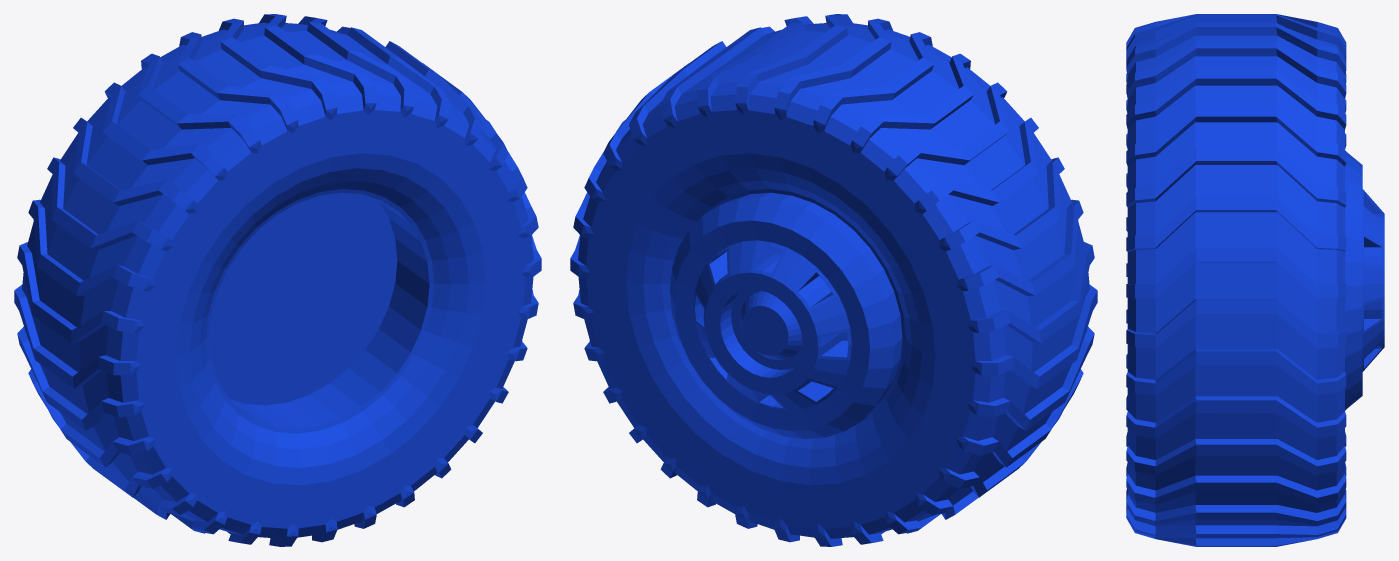
Rendered from PLAYER_UnitLight_Wheel_Right_01_2023-10-28.fbx.
3 renders of one model, left to right at view 1: azimuth 30°, elevation 25°; view 2: azimuth 150°, elevation 25°; view 3: azimuth 270°, elevation 25°, orthographic. The views are drawn at different scales.
Parts seen in each view (by area): view 1: LU.007; view 2: LU.007; view 3: LU.007.
Boxes of the visible parts, x1=… form: LU.007: x1=14, y1=14, x2=541, y2=546; LU.007: x1=570, y1=14, x2=1097, y2=546; LU.007: x1=1126, y1=14, x2=1384, y2=546.
Bounding box in the file's own units: 0.5913 × 0.5913 × 0.2857.
